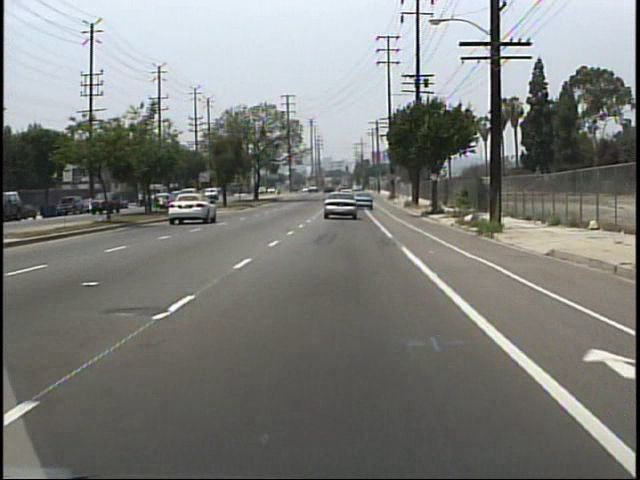person: (98, 192, 108, 211)
